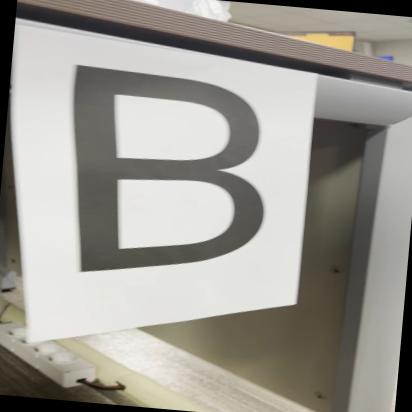seat: (48, 50, 314, 298)
